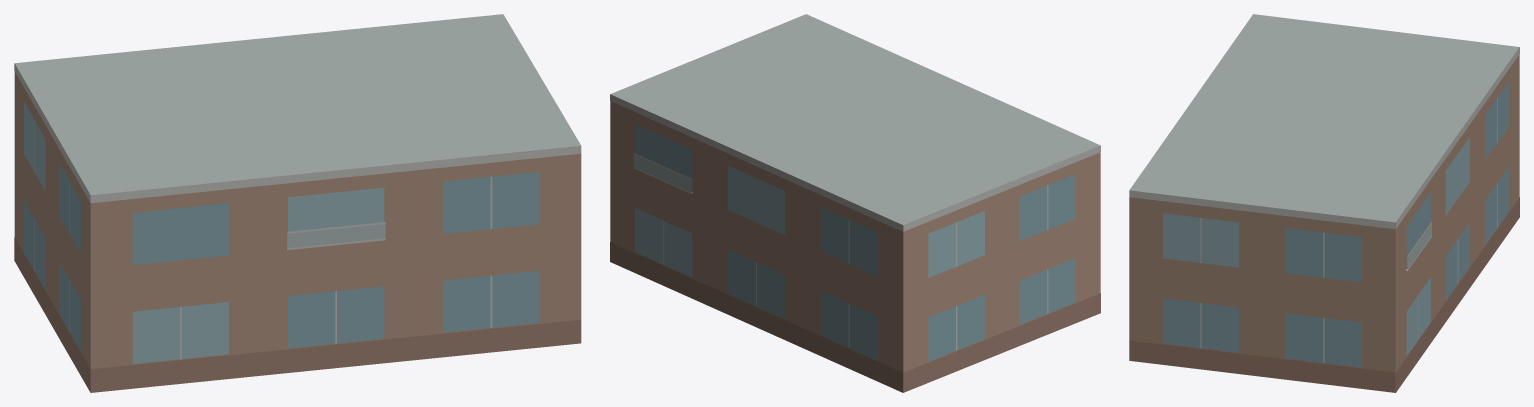
Rendered from survey-upis-32665942.glb.
3 views of the same model, side by side, from view 1: azimuth 30°, elevation 25°; view 2: azimuth 150°, elevation 25°; view 3: azimuth 270°, elevation 25° (orthographic). The views are drawn at different scales.
Parts seen in each view (by area): view 1: survey-upis-32665942.tmp; view 2: survey-upis-32665942.tmp; view 3: survey-upis-32665942.tmp.
Boxes of the visible parts, x1=… form: survey-upis-32665942.tmp: x1=14, y1=14, x2=581, y2=392; survey-upis-32665942.tmp: x1=610, y1=14, x2=1100, y2=392; survey-upis-32665942.tmp: x1=1129, y1=14, x2=1519, y2=392.
Size of the model in its own units: 16.02 by 6.1 by 12.68.
